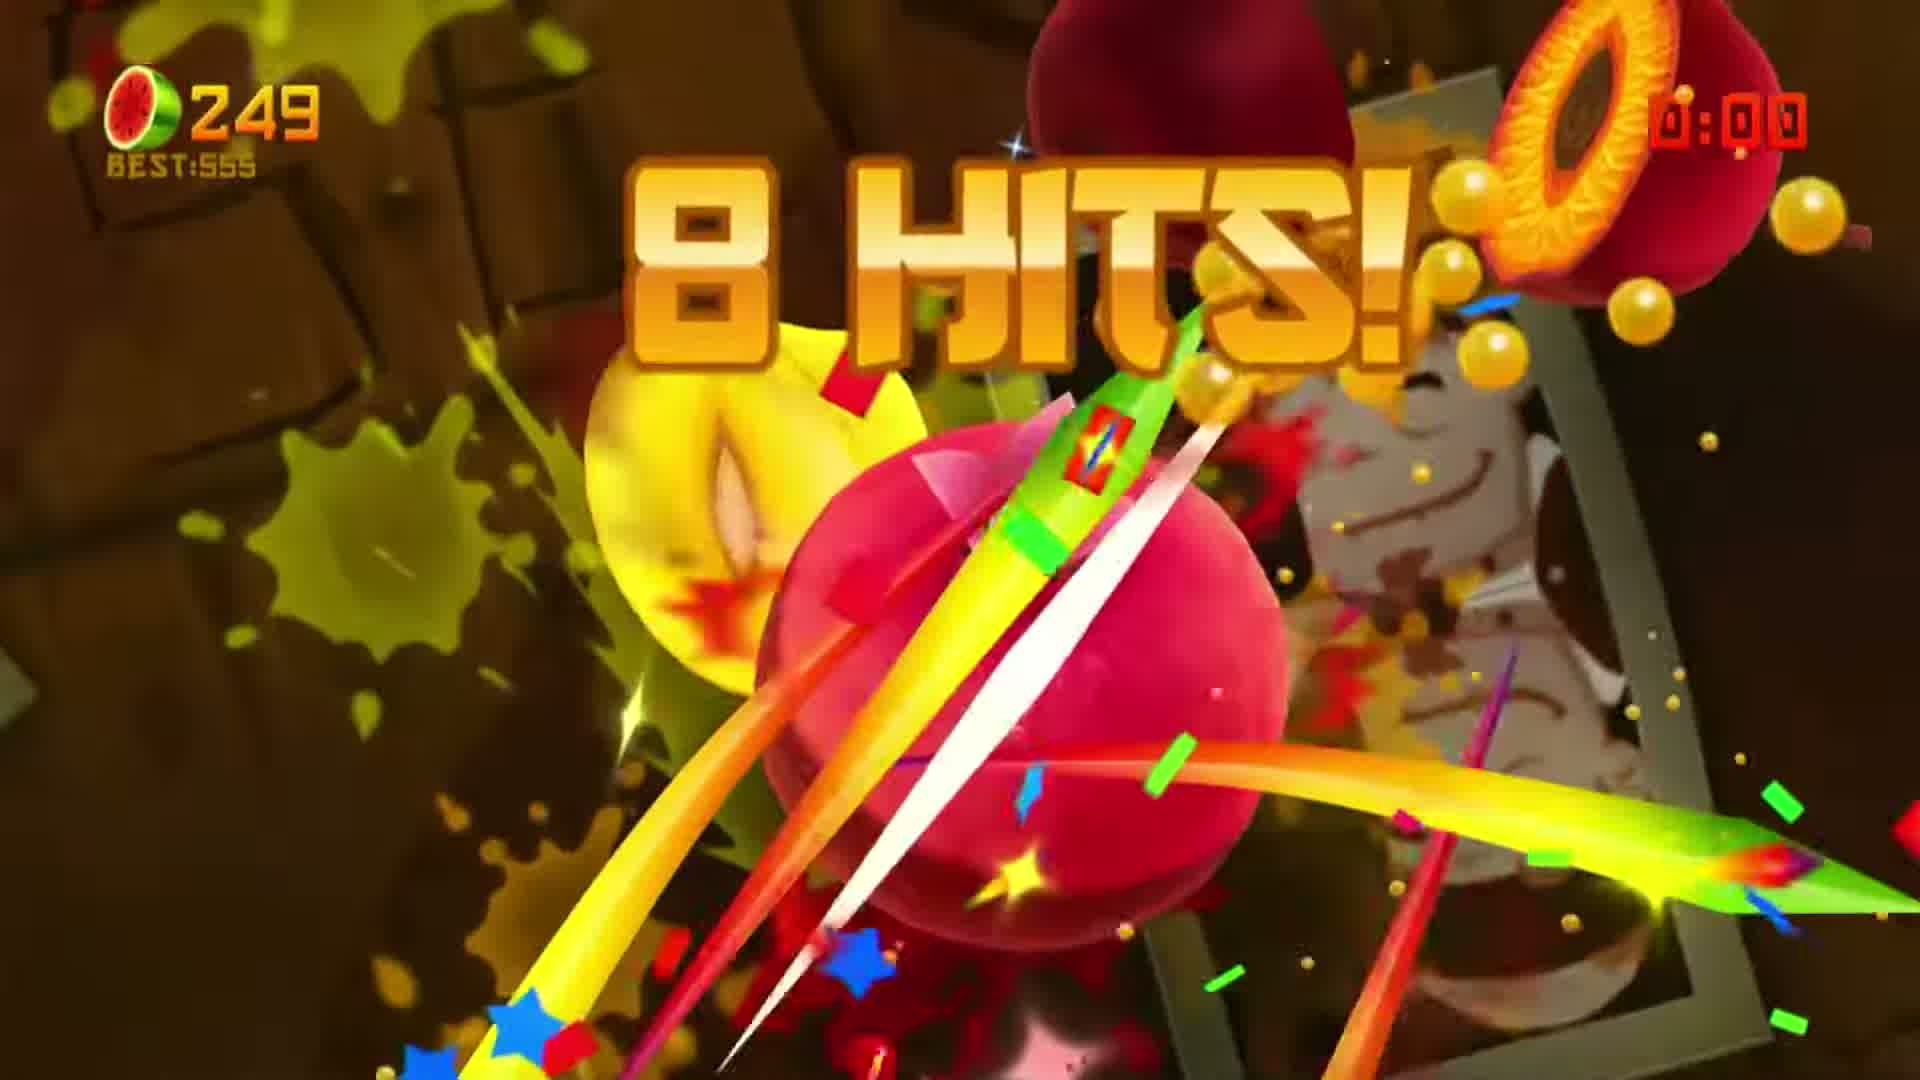blade_trail: (231, 439, 886, 1031), (761, 646, 1850, 938), (750, 476, 1139, 942)
fruit: (738, 467, 1232, 972), (476, 220, 898, 738), (1411, 3, 1760, 245), (1491, 12, 1676, 224), (1001, 0, 1280, 136)
